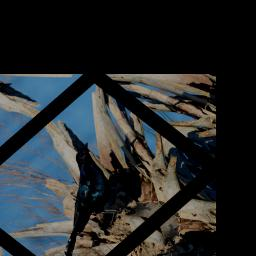Crow: (4, 142, 156, 256)
